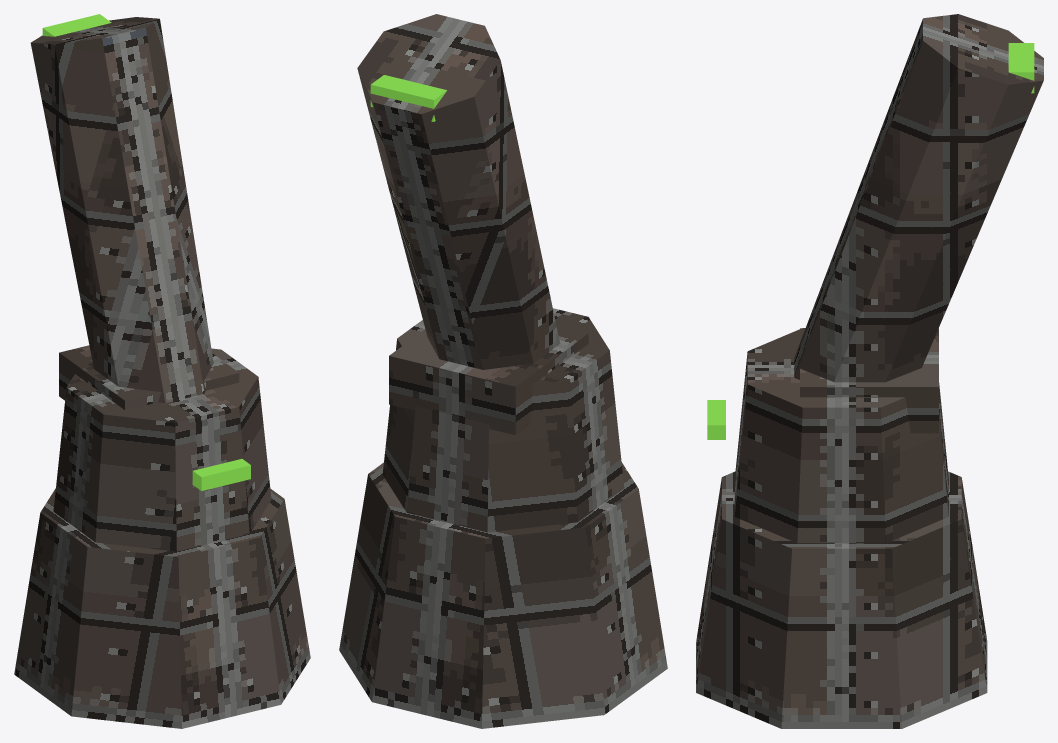
File: enemy_artillery.glb
The picture shows the model from 3 angles, left to right: view 1: azimuth 30°, elevation 25°; view 2: azimuth 150°, elevation 25°; view 3: azimuth 270°, elevation 25°; orthographic projection. The views are drawn at different scales.
Parts seen in each view (by area): view 1: enemy_artillery; view 2: enemy_artillery; view 3: enemy_artillery.
Boxes of the visible parts, x1=… form: enemy_artillery: x1=14, y1=14, x2=310, y2=728; enemy_artillery: x1=339, y1=14, x2=667, y2=728; enemy_artillery: x1=696, y1=14, x2=1043, y2=728.
Size of the model in its own units: 0.6282 by 1.52 by 0.7499.
2 materials, 1 textured.
